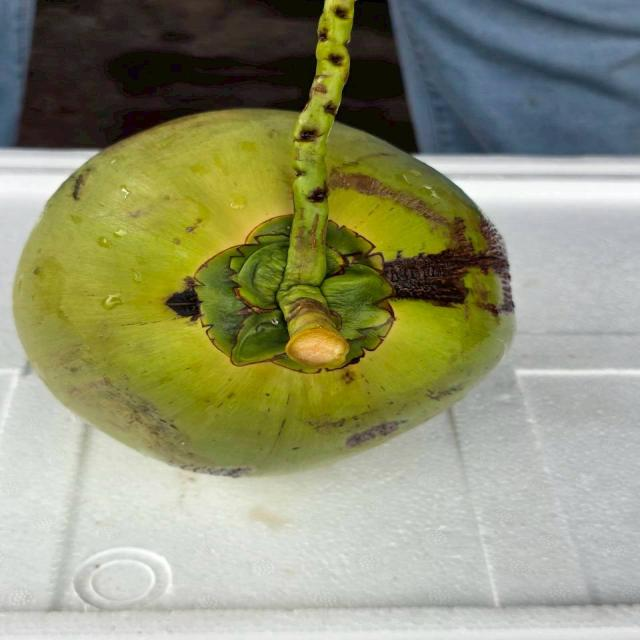coco_1.5: (145, 192, 472, 406)
